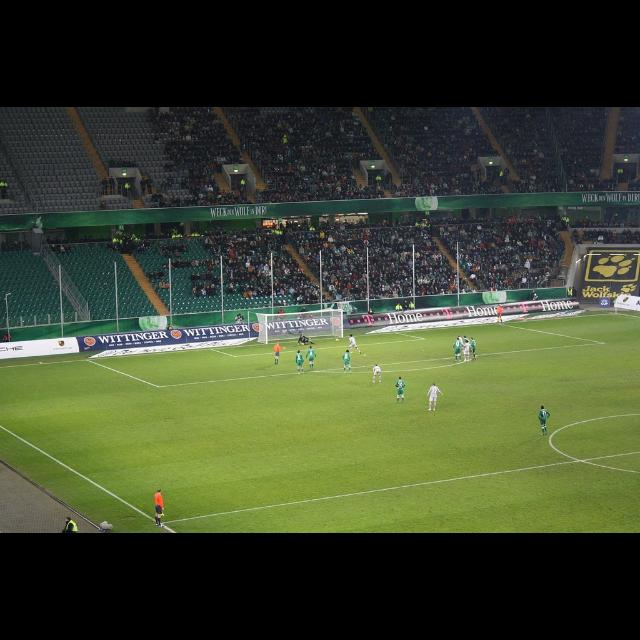Football: (335, 336, 337, 340)
